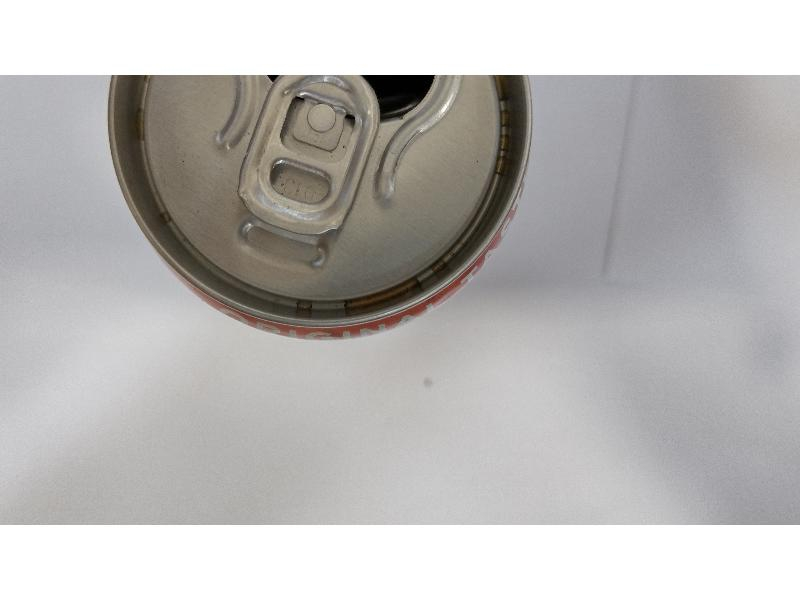can: (108, 76, 533, 344)
